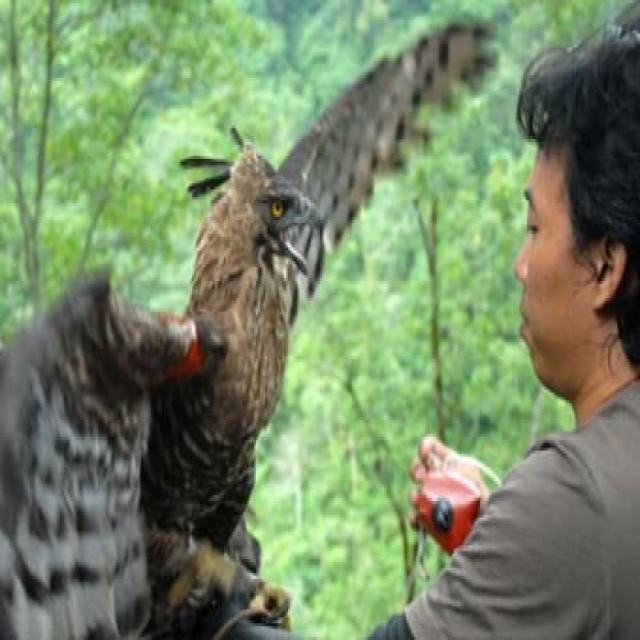Elang Jawa: (0, 6, 501, 640)
